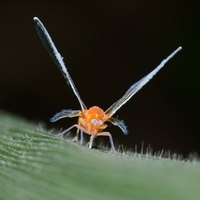insect: (33, 17, 181, 150)
